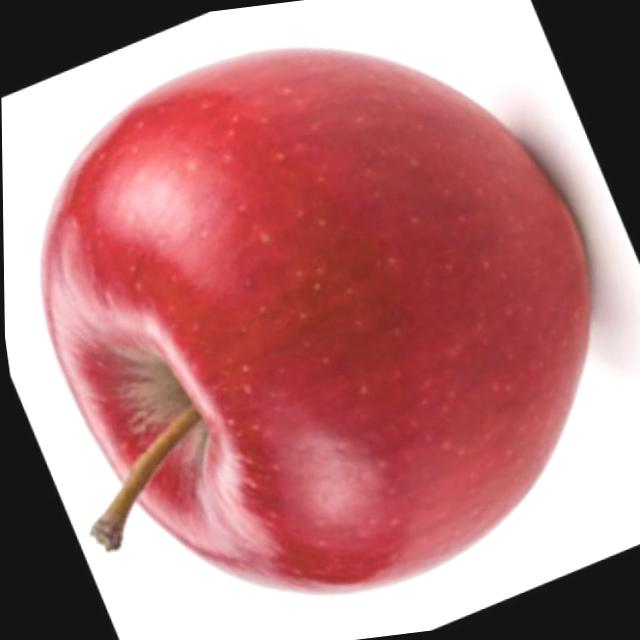Apple: (9, 13, 629, 629)
